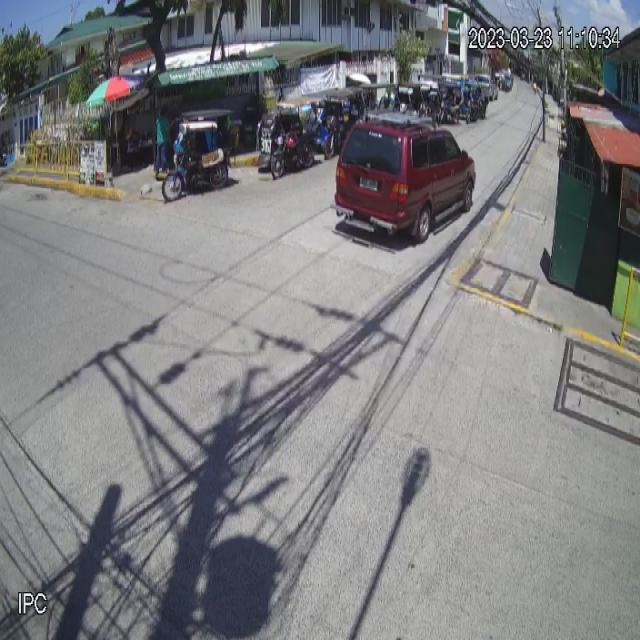Car: (329, 107, 477, 244)
